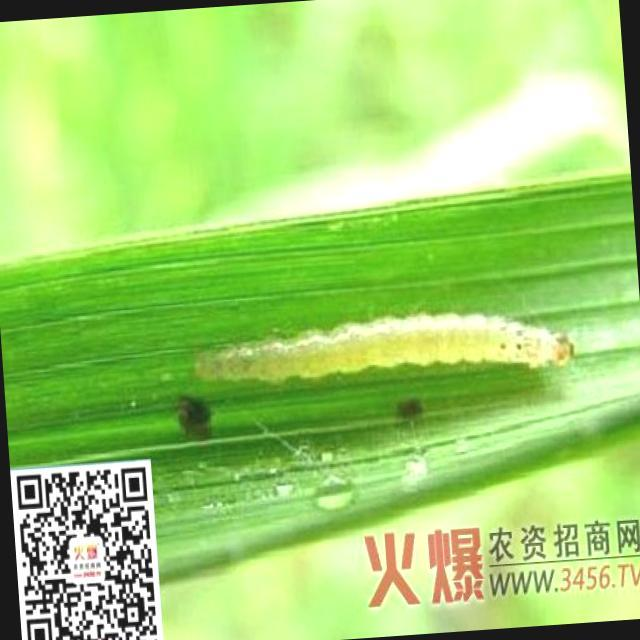leaf folder: (196, 314, 574, 382)
